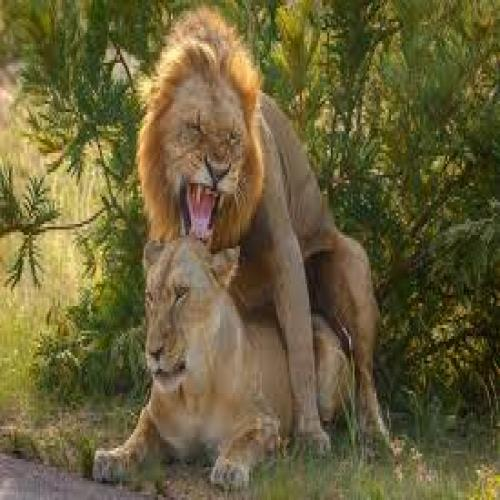lion-endangered: (90, 246, 351, 486), (138, 12, 318, 264)
